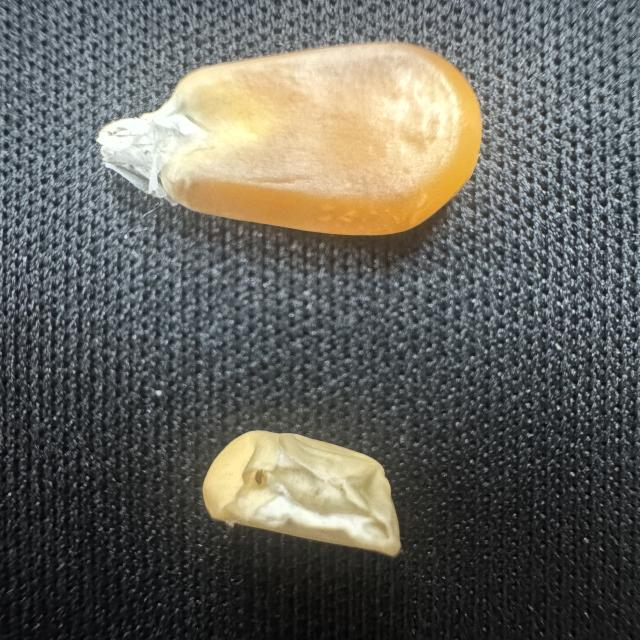Bad-Seed: (189, 424, 419, 565)
Good-Seed: (85, 36, 507, 242)
